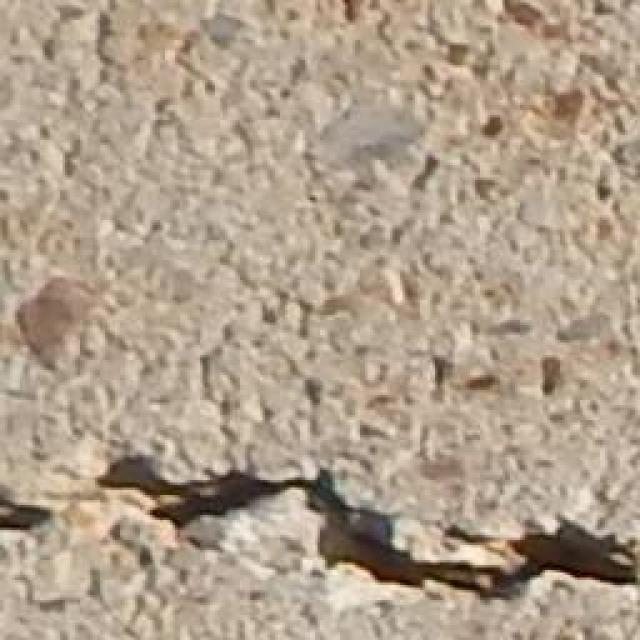concrete-crack: (1, 442, 640, 611)
